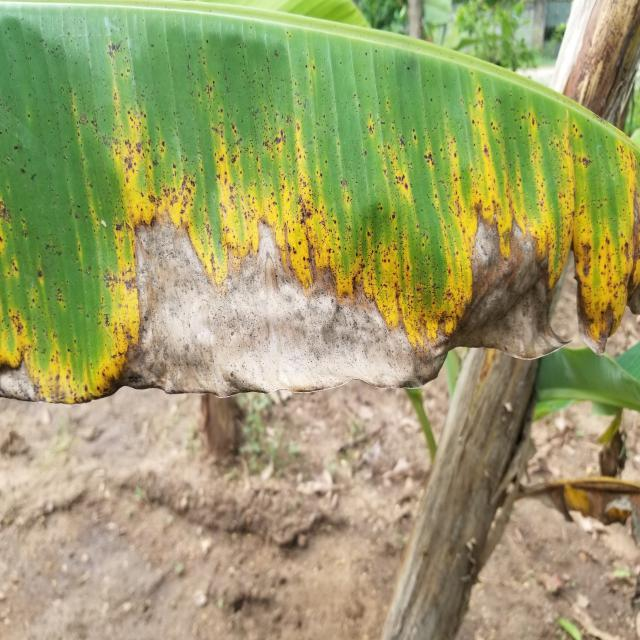Early_rust: (0, 33, 640, 391)
